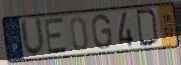0: (69, 15, 89, 52)
4: (117, 10, 136, 49)
D: (135, 8, 160, 48)
E: (43, 16, 69, 56)
G: (91, 13, 114, 50)
U: (18, 17, 47, 59)
